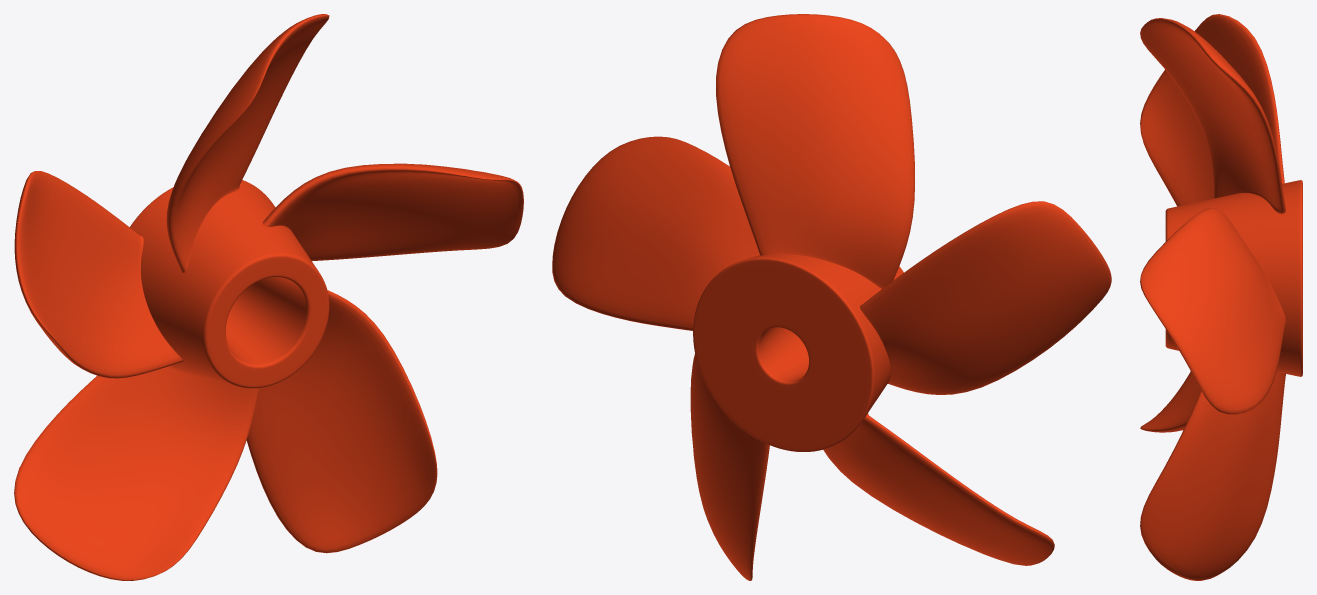
The model's file is prof_front_5.fbx.
3 renders of one model, left to right at view 1: azimuth 30°, elevation 25°; view 2: azimuth 150°, elevation 25°; view 3: azimuth 270°, elevation 25°, orthographic. The views are drawn at different scales.
Visible parts, largest first — view 1: 원형.001; view 2: 원형.001; view 3: 원형.001.
Boxes of the visible parts, box(x1,y1,x2,y2) form: 원형.001: box(14, 14, 523, 580); 원형.001: box(552, 14, 1111, 580); 원형.001: box(1140, 14, 1302, 580).
Size of the model in its own units: 579 by 586 by 163.
